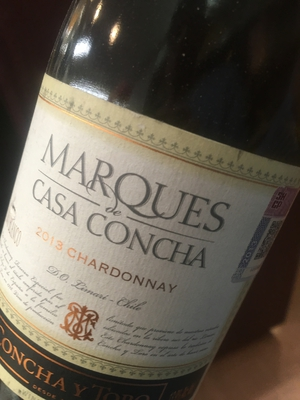marques de casa concha chardonnay: (3, 59, 295, 400)
